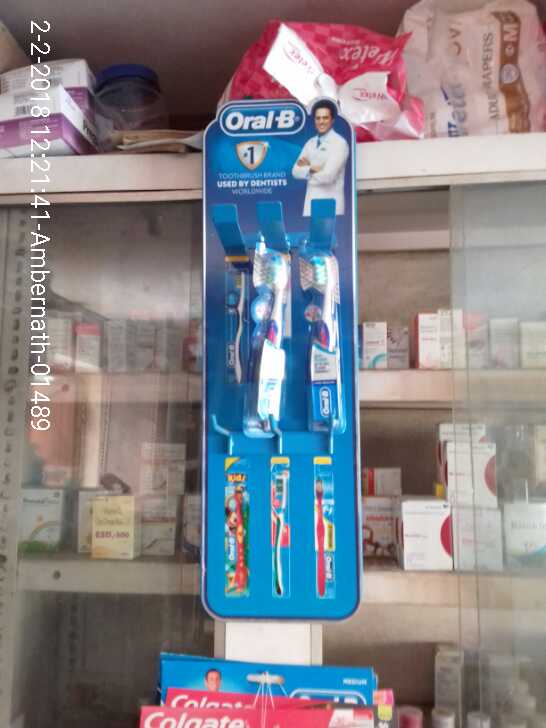oralb: (293, 234, 349, 431), (247, 245, 289, 437)
